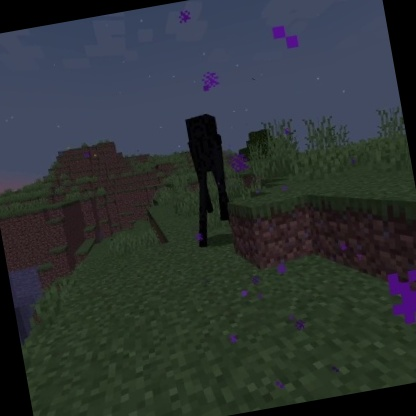enderman: (173, 110, 243, 251)
